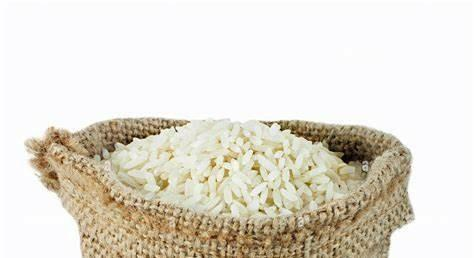WhiteRice: (95, 118, 371, 221)
